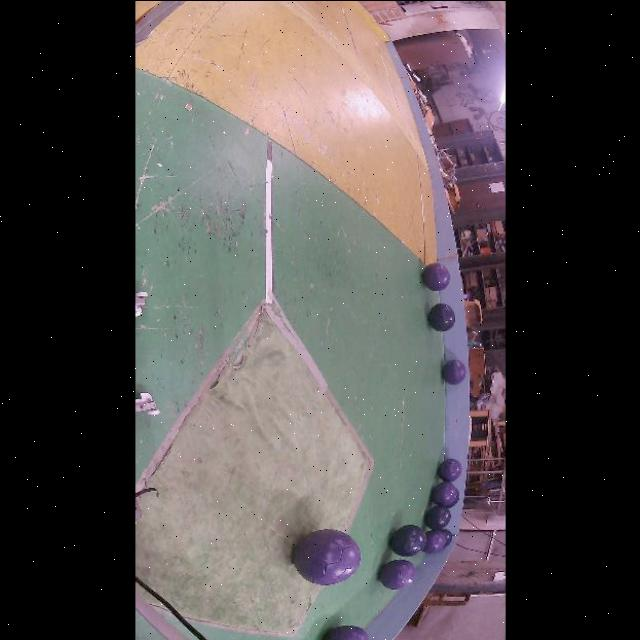B: (391, 524, 427, 556), (428, 303, 456, 331), (425, 505, 452, 529), (440, 528, 454, 547)
P: (294, 528, 361, 584), (380, 559, 416, 588), (423, 262, 451, 290), (325, 624, 370, 640), (432, 480, 459, 505), (442, 358, 467, 384), (438, 457, 463, 482), (423, 529, 447, 554)
